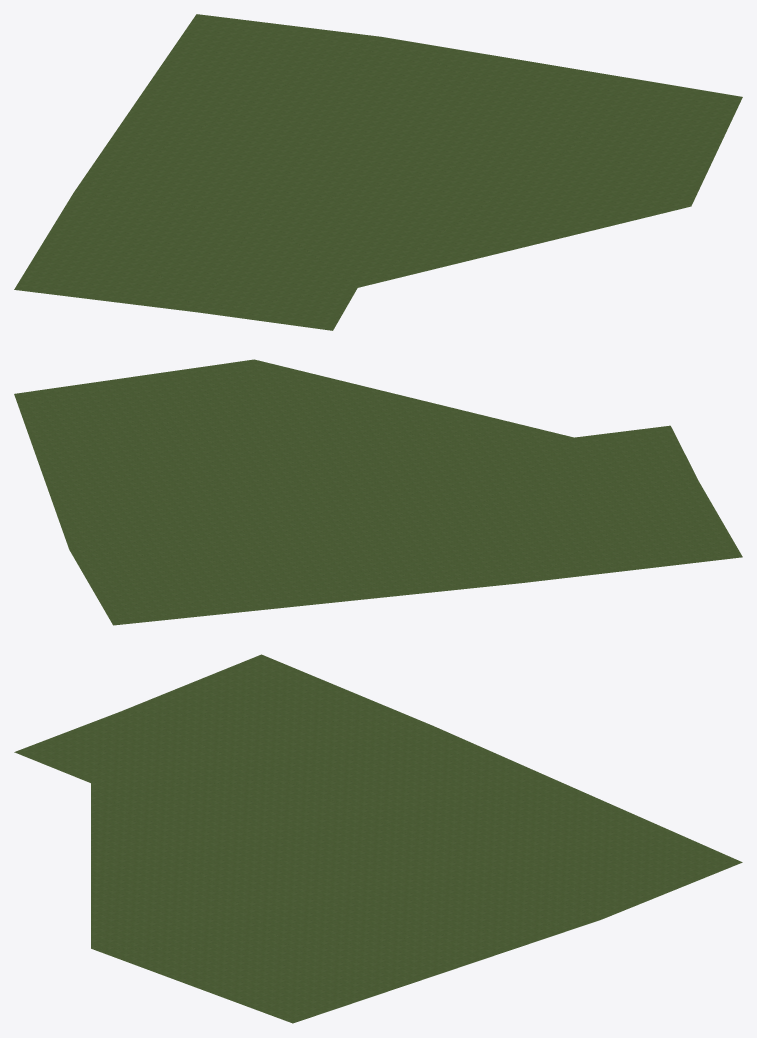
File: ground.glb
3 renders of one model, top to bottom at view 1: azimuth 30°, elevation 25°; view 2: azimuth 150°, elevation 25°; view 3: azimuth 270°, elevation 25°, orthographic. The views are drawn at different scales.
Parts seen in each view (by area): view 1: ground; view 2: ground; view 3: ground.
Part boxes in pixels (box(x1,y1,x2,y2)): ground: box(14, 14, 742, 330); ground: box(14, 359, 742, 625); ground: box(14, 654, 742, 1023).
Size of the model in its own units: 39.49 by 0 by 32.96.
1 material, 1 textured.
